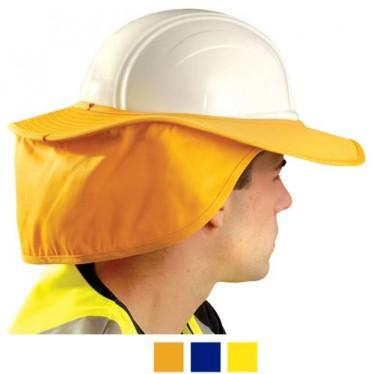helmet: (5, 9, 316, 159)
